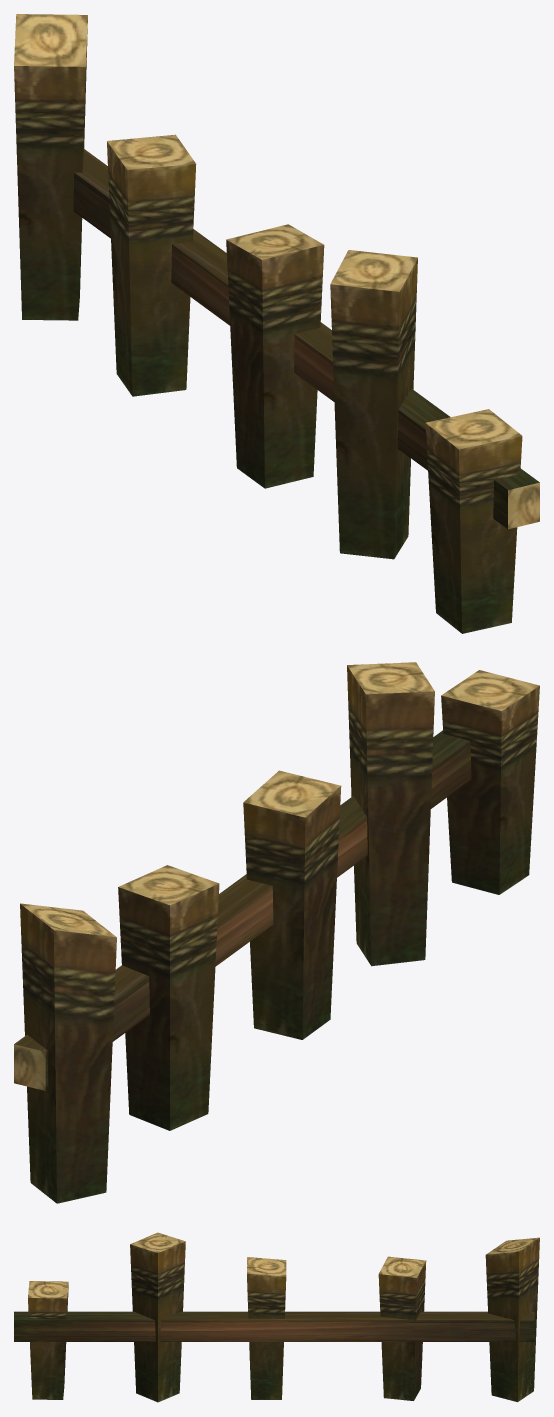
File: shamo_wujian_liba.fbx
3 renders of one model, top to bottom at view 1: azimuth 30°, elevation 25°; view 2: azimuth 150°, elevation 25°; view 3: azimuth 270°, elevation 25°, orthographic. The views are drawn at different scales.
Parts seen in each view (by area): view 1: polySurface306, polySurface304, polySurface305, polySurface303, polySurface307, polySurface308; view 2: polySurface305, polySurface306, polySurface303, polySurface304, polySurface307, polySurface308; view 3: polySurface308, polySurface306, polySurface305, polySurface303, polySurface304, polySurface307.
Part boxes in pixels (x1=…): polySurface306: x1=330, y1=250, x2=417, y2=559; polySurface304: x1=226, y1=224, x2=324, y2=488; polySurface305: x1=14, y1=14, x2=87, y2=320; polySurface303: x1=107, y1=134, x2=196, y2=396; polySurface307: x1=425, y1=409, x2=522, y2=633; polySurface308: x1=73, y1=149, x2=539, y2=529; polySurface305: x1=20, y1=903, x2=116, y2=1203; polySurface306: x1=347, y1=662, x2=434, y2=966; polySurface303: x1=118, y1=865, x2=219, y2=1130; polySurface304: x1=243, y1=770, x2=341, y2=1039; polySurface307: x1=441, y1=670, x2=539, y2=894; polySurface308: x1=14, y1=730, x2=471, y2=1090; polySurface308: x1=14, y1=1311, x2=534, y2=1341; polySurface306: x1=130, y1=1232, x2=185, y2=1402; polySurface305: x1=485, y1=1237, x2=539, y2=1402; polySurface303: x1=378, y1=1256, x2=426, y2=1400; polySurface304: x1=247, y1=1257, x2=286, y2=1399; polySurface307: x1=28, y1=1281, x2=68, y2=1399.
Bounding box in the file's own units: 0.4033 × 1.22 × 3.8.
